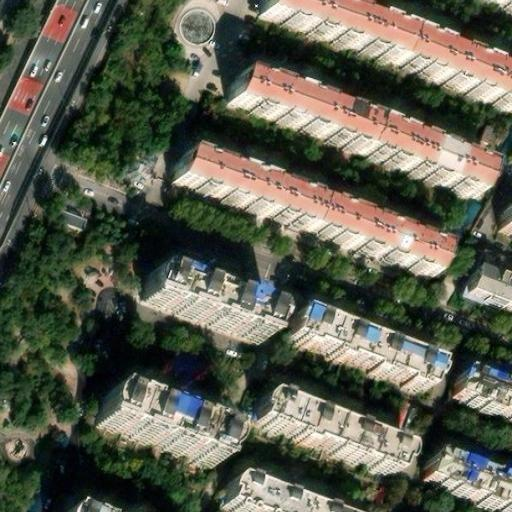building: (164, 149, 436, 278), (220, 70, 484, 196), (254, 0, 512, 107), (248, 389, 398, 471), (283, 311, 432, 391), (88, 390, 222, 468), (134, 269, 268, 344), (414, 447, 512, 512), (219, 475, 327, 512), (441, 372, 512, 427), (456, 265, 512, 319), (54, 494, 110, 512), (54, 202, 89, 230), (469, 245, 497, 273), (494, 199, 512, 235)
